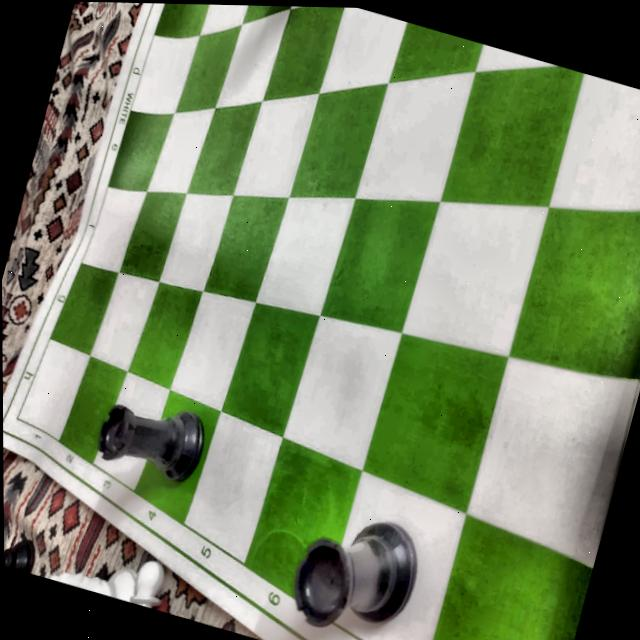BlackRook: (280, 494, 430, 640), (89, 386, 210, 487)
